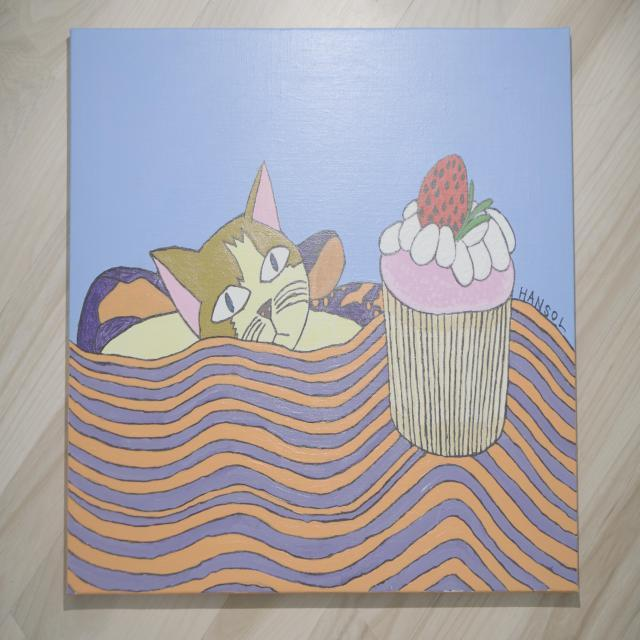painting: (67, 29, 578, 593)
